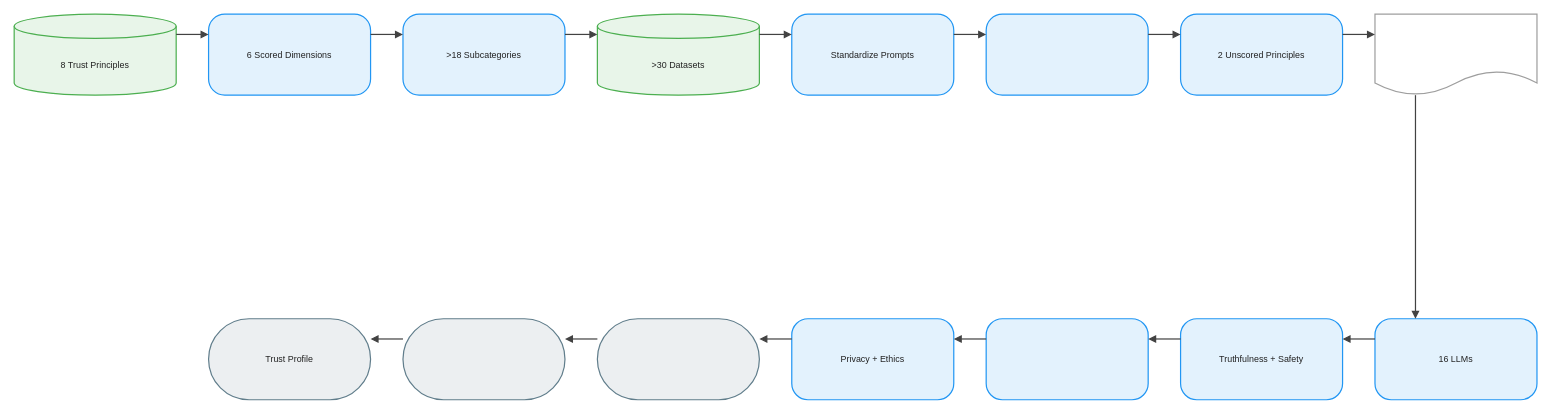
Some shapes in this 1552 by 415 pixel diagram are drawn without their labels. The shapes that lost their labels are listed below. From the top down, each one's box as (x1, y1, x2, y2) in pixels, then its label:
(985, 13, 1148, 95): Perturb / Adversarial Cases
(1374, 13, 1537, 95): Freeze Protocols
(402, 318, 565, 400): Dimension Aggregation
(596, 318, 760, 400): Task-Specific Metrics
(985, 318, 1148, 400): Fairness + Robustness
